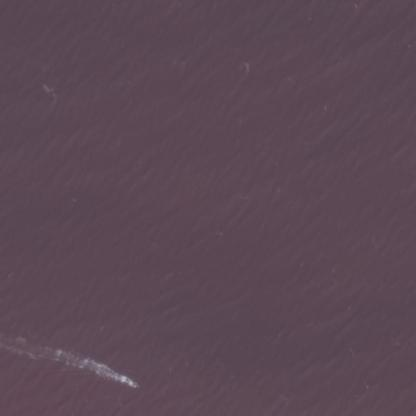ship: (126, 376, 140, 391)
